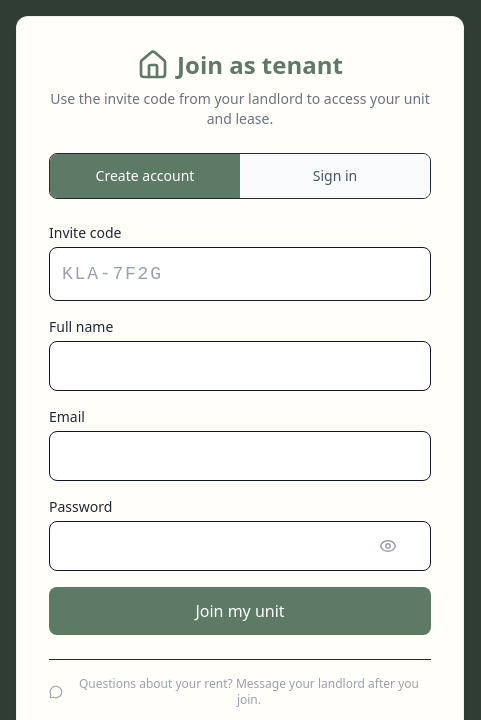
Test case: owner login on tenant join route › rejects owner credentials with generic error
The image size is (481, 720).
Step 1. Click the button "Sign in" → coordinates (335, 176), box x1=240 y1=154 x2=430 y2=198
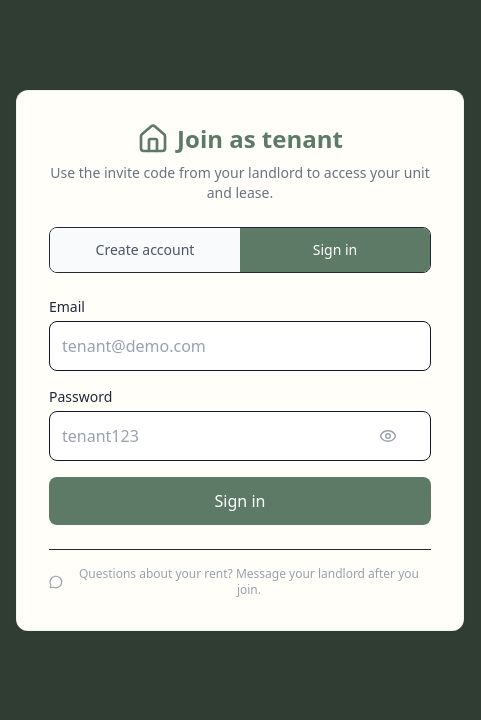
Step 2. Type "owner@demo.com" into the field with placeholder "tenant@demo.com" → coordinates (240, 346), box x1=49 y1=320 x2=431 y2=370
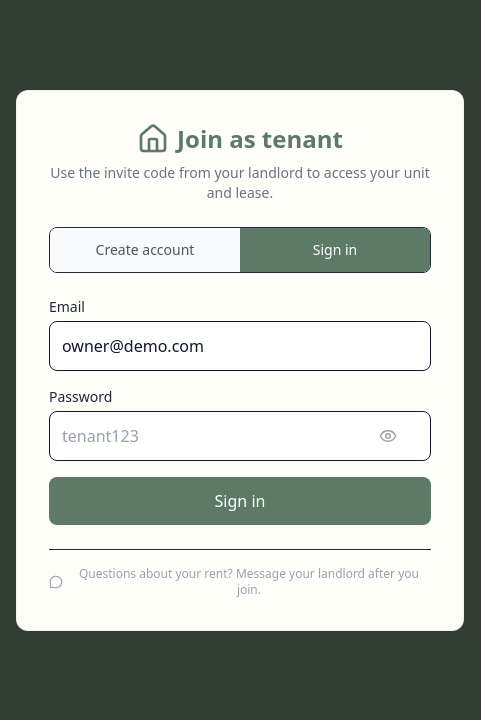
Step 3. Type "owner123" into the password field with placeholder "tenant123" → coordinates (240, 436), box x1=49 y1=410 x2=431 y2=460
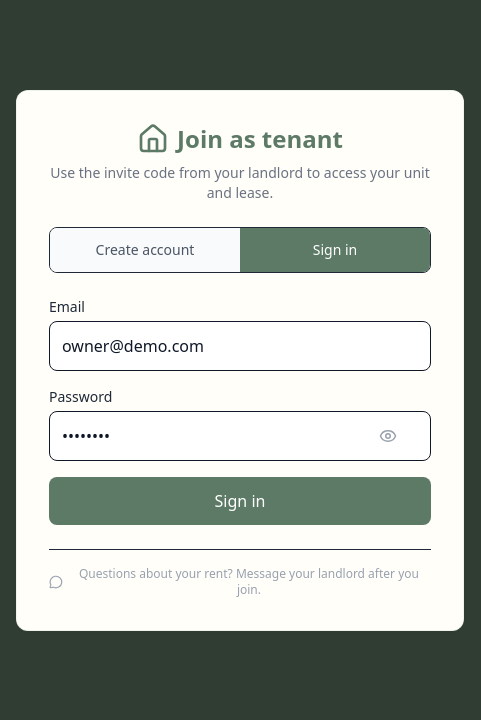
Step 4. Submit the form, box x1=49 y1=296 x2=431 y2=524
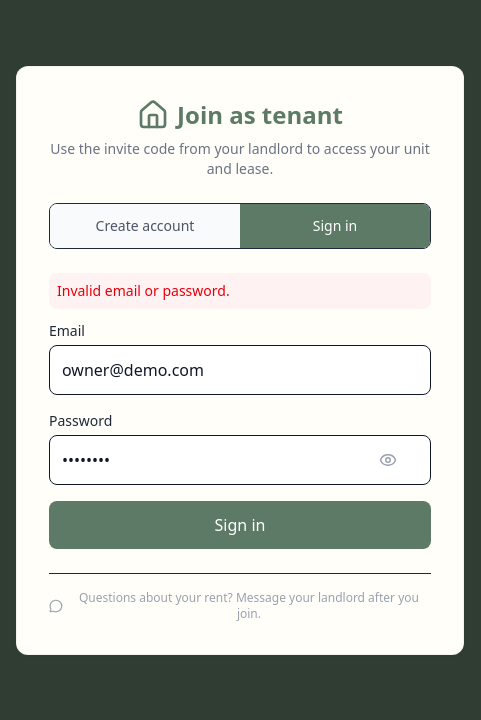
Result: the text "Invalid email or password." is shown at x1=49 y1=272 x2=431 y2=308
